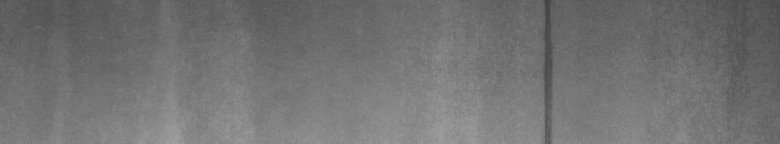hd: (536, 4, 556, 136)
